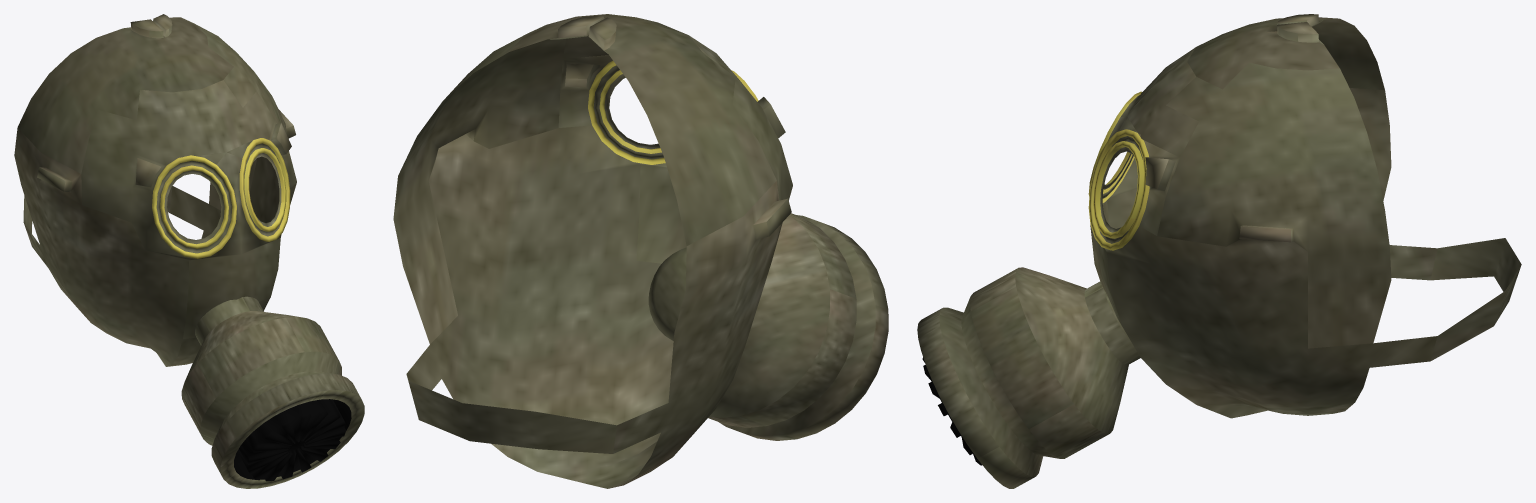
The model's file is MascaraDeGas.fbx.
The picture shows the model from 3 angles, left to right: view 1: azimuth 30°, elevation 25°; view 2: azimuth 150°, elevation 25°; view 3: azimuth 270°, elevation 25°; orthographic projection. The views are drawn at different scales.
Parts seen in each view (by area): view 1: Respiradero; view 2: Respiradero; view 3: Respiradero.
Boxes of the visible parts, bbox=[...] form: Respiradero: bbox=[14, 14, 364, 488]; Respiradero: bbox=[393, 14, 888, 488]; Respiradero: bbox=[917, 14, 1521, 488].
Size of the model in its own units: 156 by 232 by 278.
